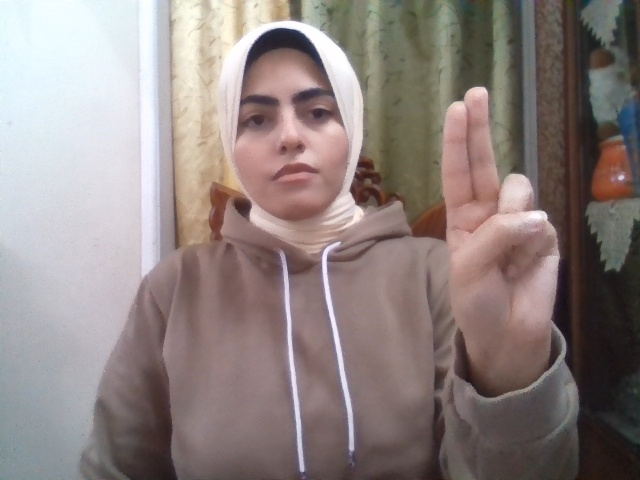U: (441, 85, 560, 355)
